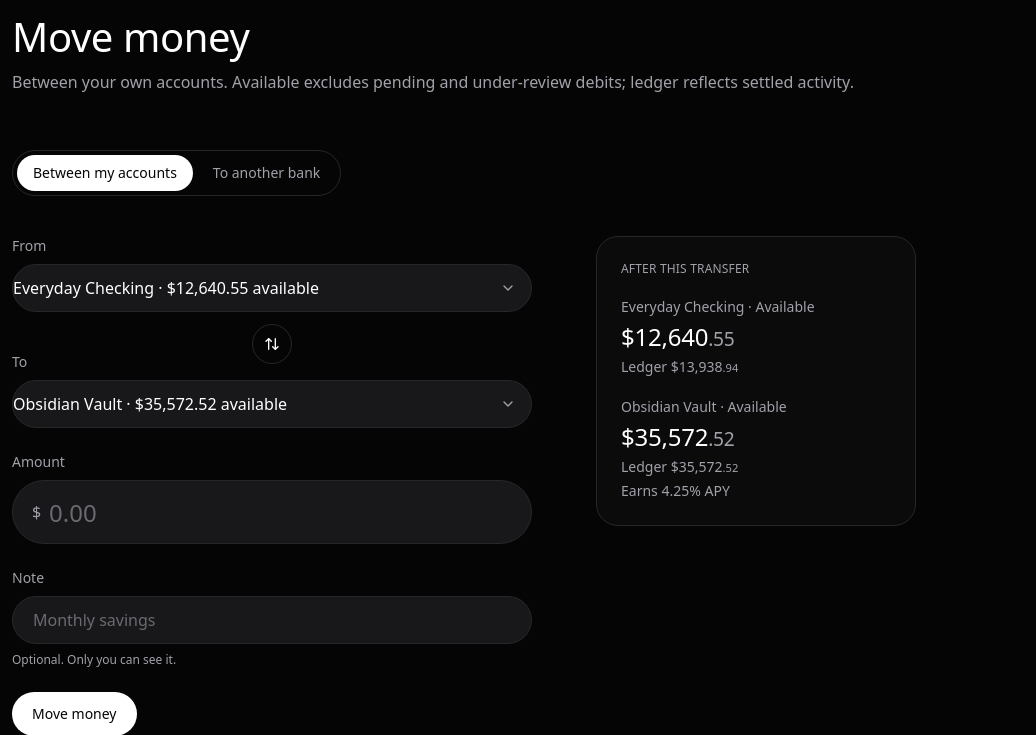
Test: TransferPage external transfers › says plainly that no real payment network is contacted and that settlement is simulated on read
Click the radio button labelled "To another bank". click: (267, 172)
box: x1=213 y1=163 x2=320 y2=182
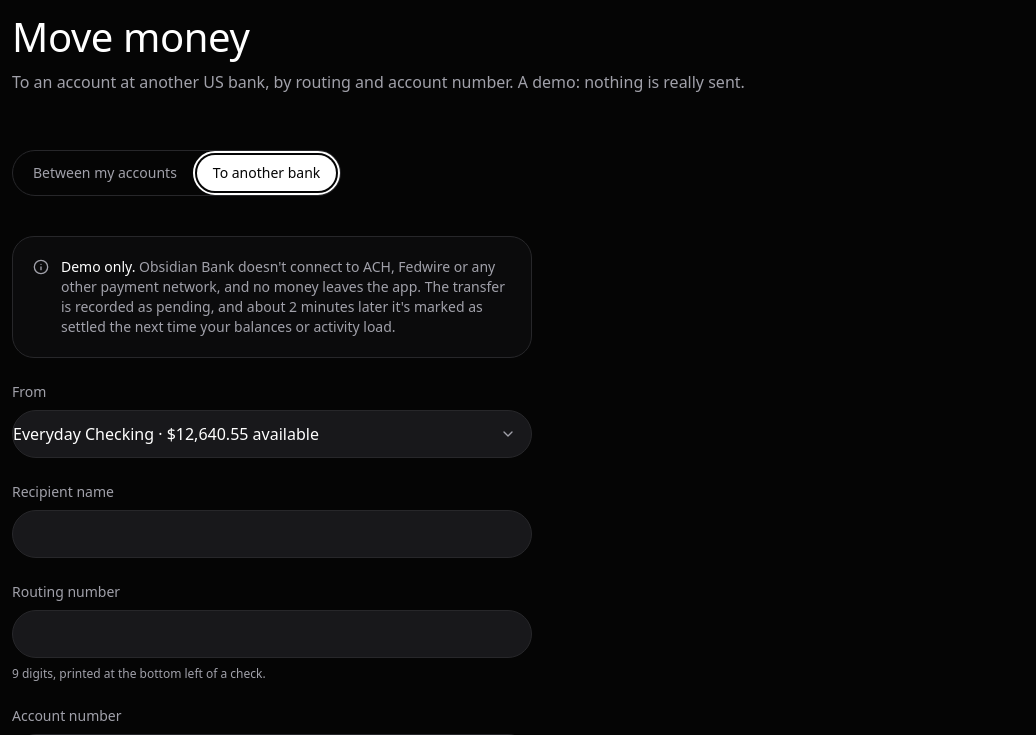
Expected: the element that starts with "Demo only." shows "doesn't connect to ACH, Fedwire or any other payment network", x1=61 y1=257 x2=505 y2=336
Expected: the element that starts with "Demo only." shows "no money leaves the app", x1=61 y1=257 x2=505 y2=336
Expected: the element that starts with "Demo only." shows "the next time your balances or activity load", x1=61 y1=257 x2=505 y2=336
